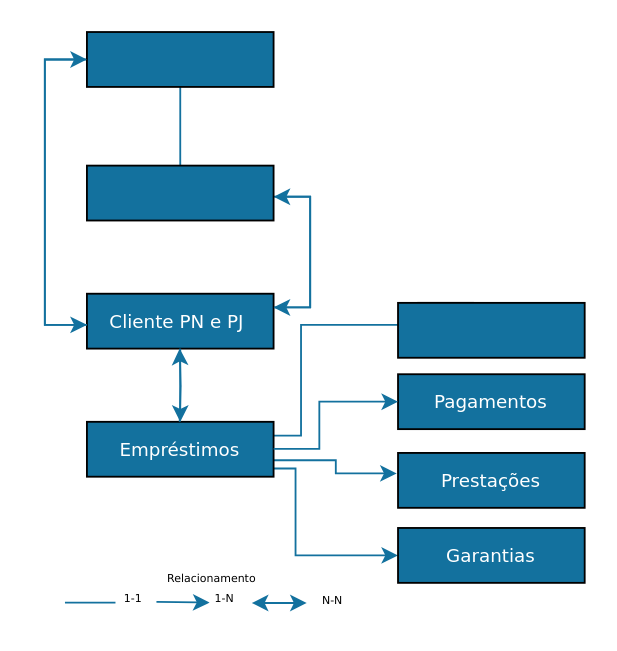
Image size: 617x651. Some labels were removed from this diagram. Here are the shapes that lost their labels. From the top down, the box of each, then its label:
(85, 30, 274, 87): Marca
(85, 164, 274, 221): Instituição
(396, 301, 585, 358): Contrato
